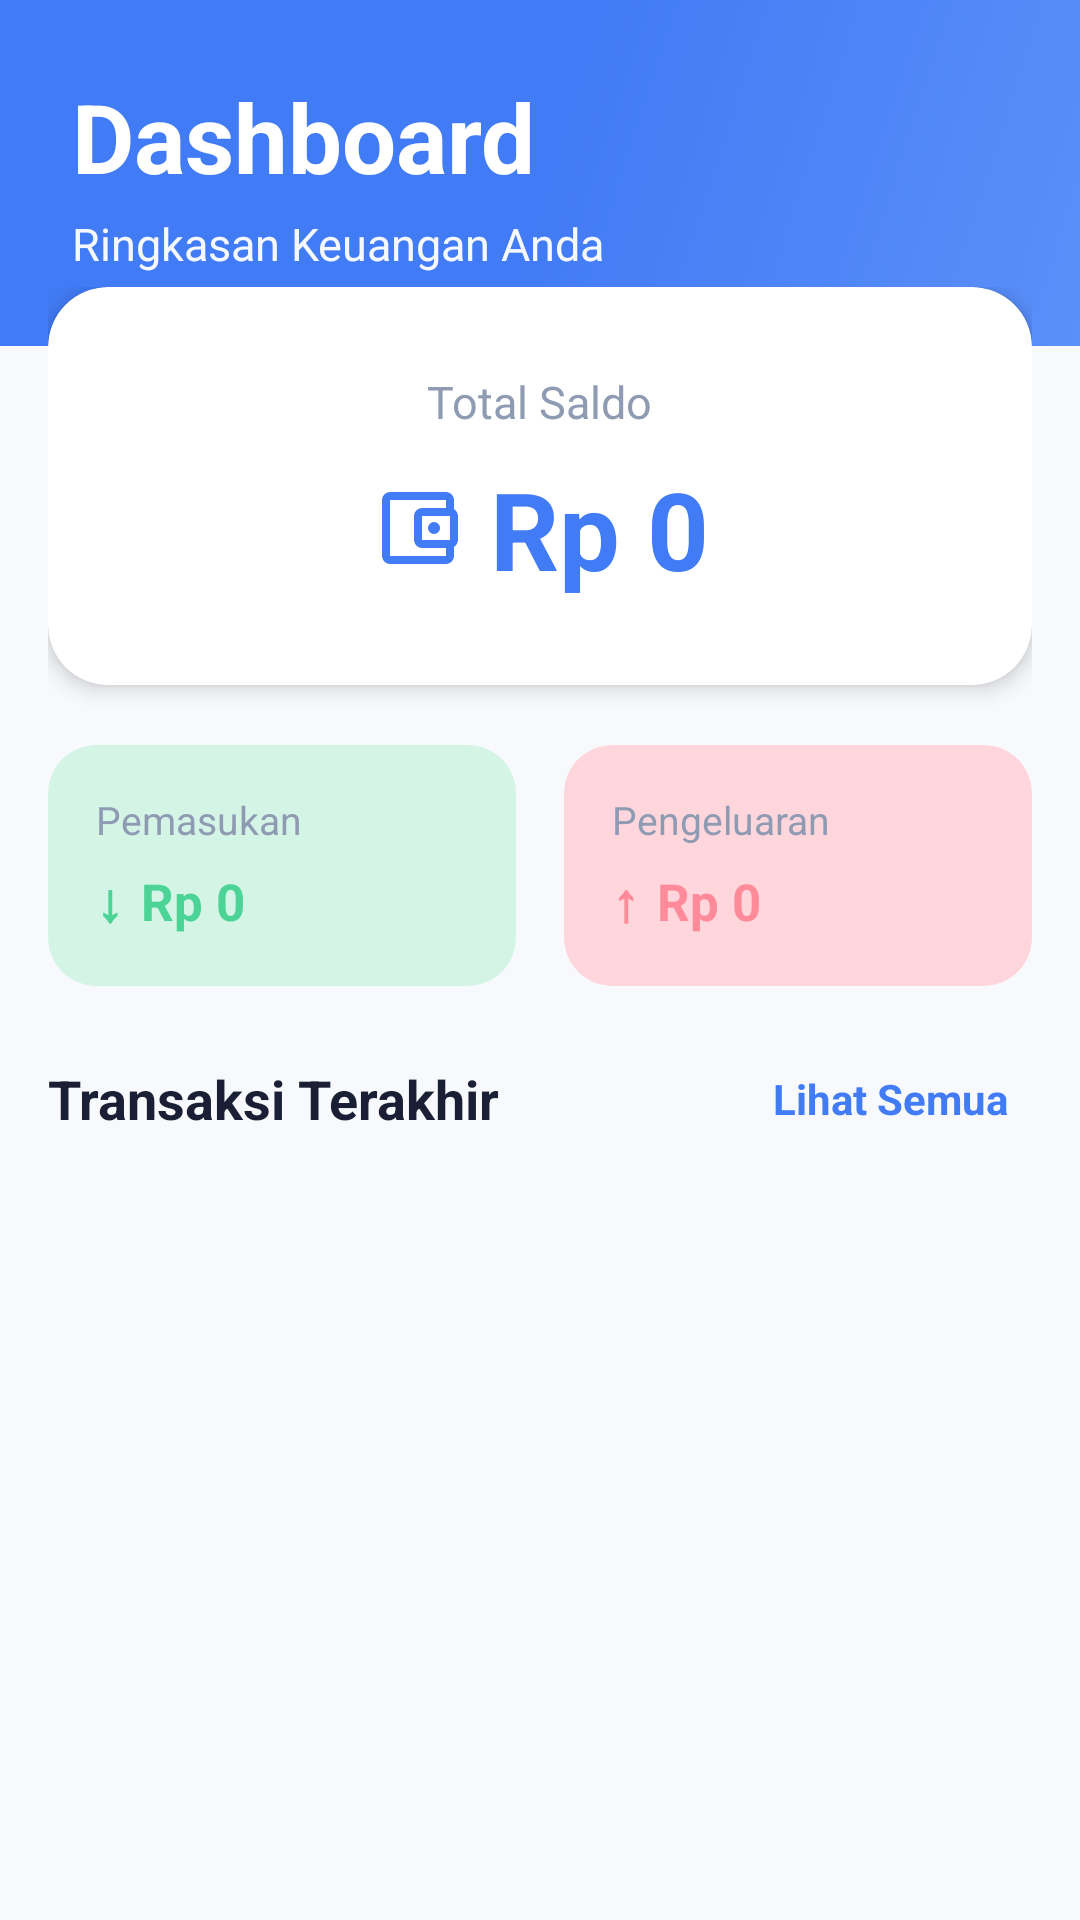

Icons on this 1080*1920 Android screen, each with its box as (x1, y1, x2, y2):
Wallet Icon: (382, 492, 458, 564)
